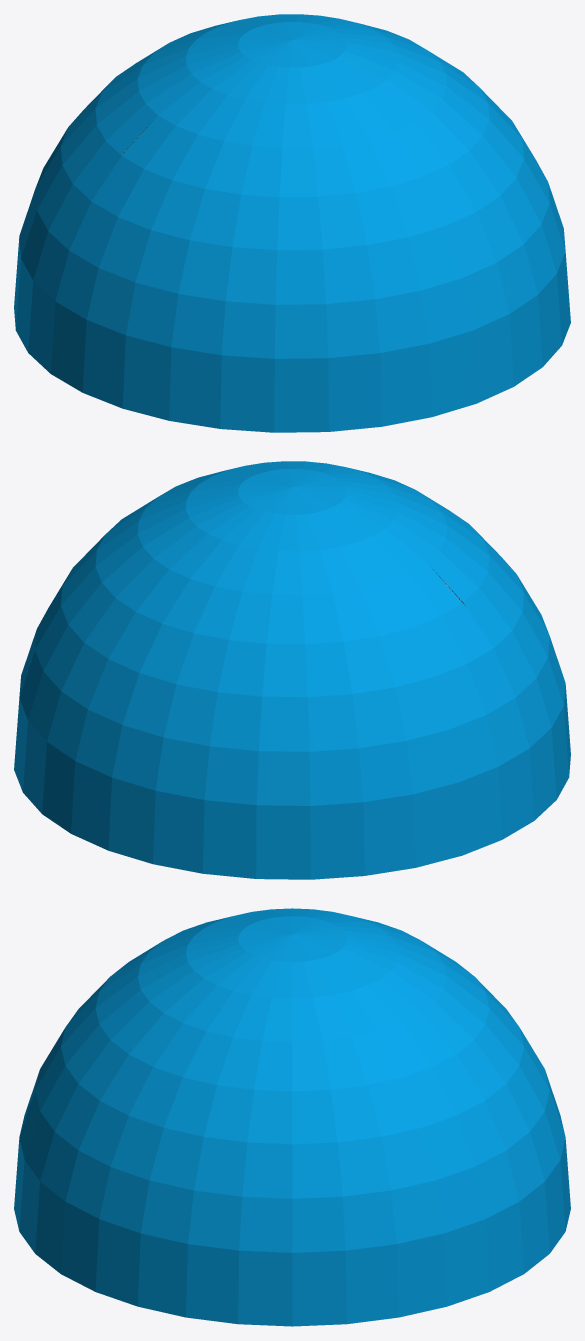
Rendered from playerFlagDome.obj.
The picture shows the model from 3 angles, top to bottom: view 1: azimuth 30°, elevation 25°; view 2: azimuth 150°, elevation 25°; view 3: azimuth 270°, elevation 25°; orthographic projection.
Parts seen in each view (by area): view 1: 球; view 2: 球; view 3: 球.
Part boxes in pixels (left/top/right/bottom): 球: left=14, top=14, right=570, bottom=432; 球: left=14, top=461, right=570, bottom=879; 球: left=14, top=908, right=570, bottom=1326.
Size of the model in its own units: 13.97 by 7.6 by 13.97.
Materials: 1 (1 with a texture image).
